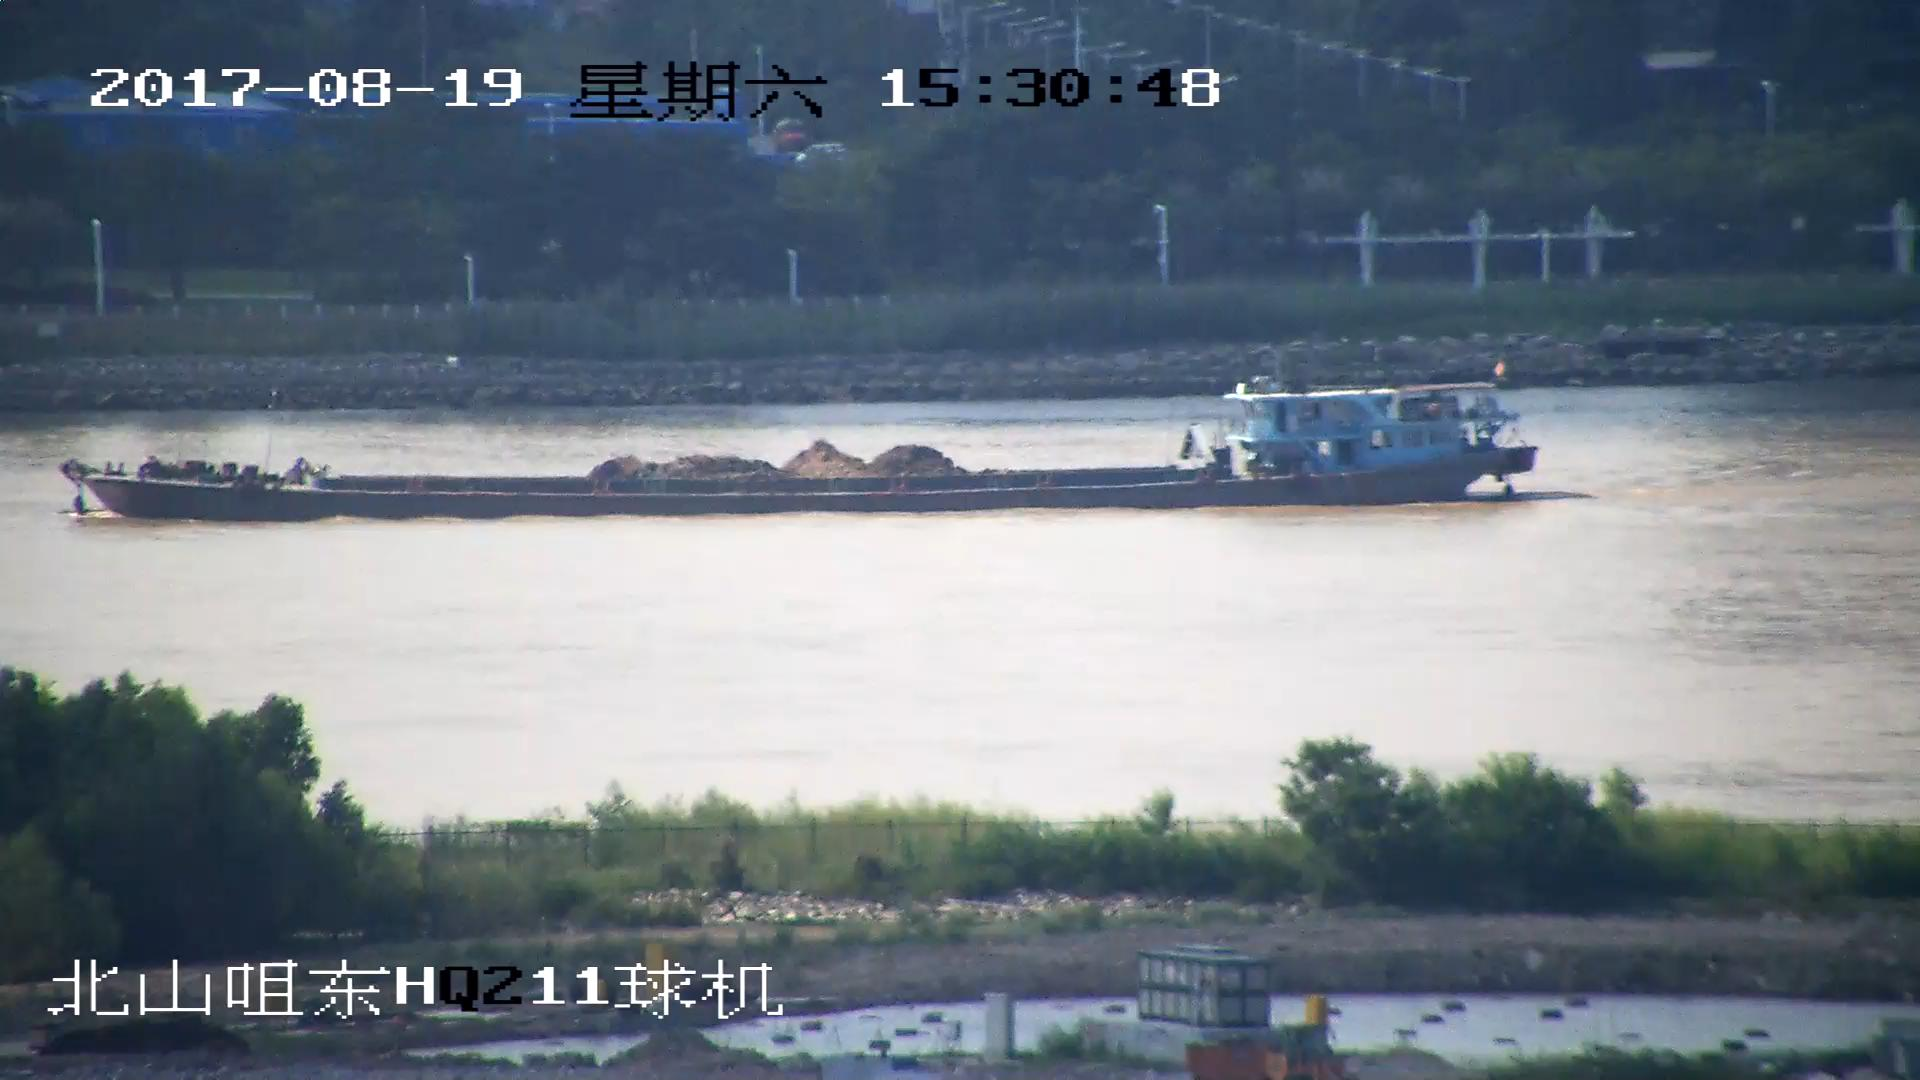ore carrier: (62, 374, 1534, 526)
